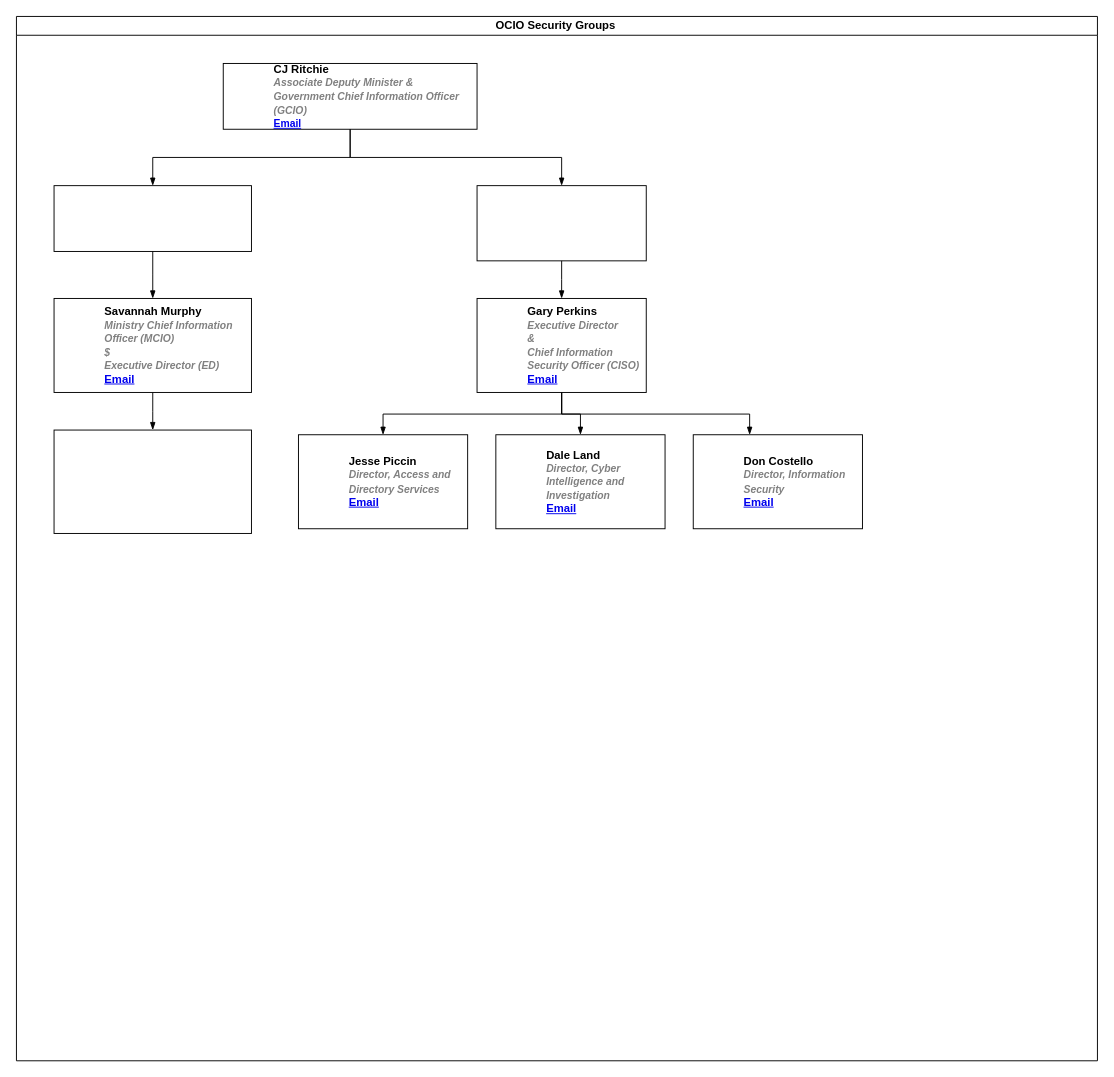
Some shapes in this 1114 by 1077 pixel diagram are drawn without their labels. Here are the shapes that lost their labels. From the top down, the centre of each, then its label:
point (152, 218): Hayden Lansdell Assistant Deputy Minister(ADM) Email
point (561, 223): Alex MacLennan Assistant Deputy Minister (ADM) Email
point (152, 481): Dan Lathigee Director & Ministry Privacy Officer (MPO) Email
